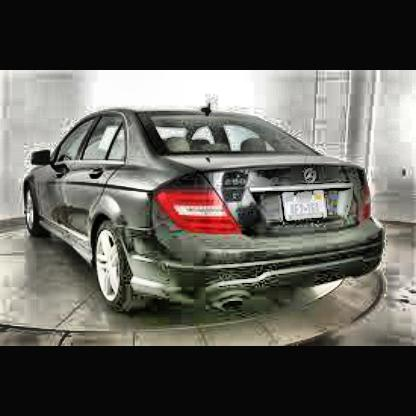Mercedes-Benz C-Class Sedan 2012: (19, 97, 388, 316)
